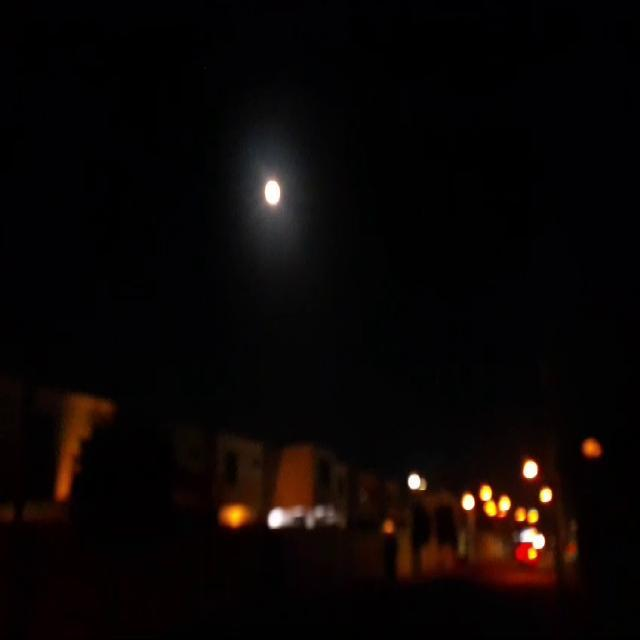moon: (260, 181, 280, 215)
